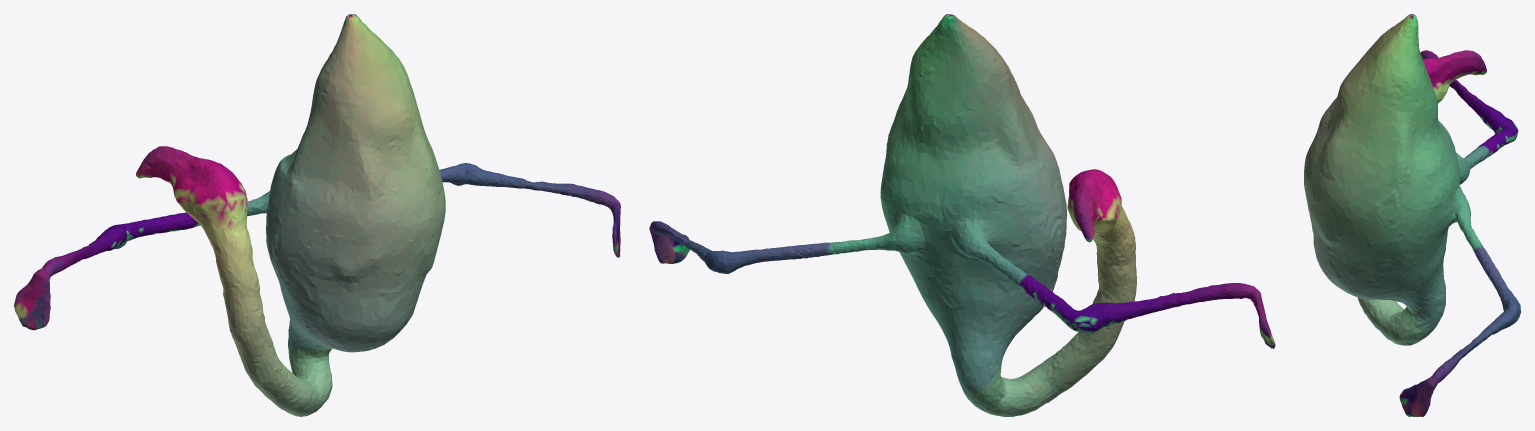
The model's file is flamingo-18.off.obj.
3 renders of one model, left to right at view 1: azimuth 30°, elevation 25°; view 2: azimuth 150°, elevation 25°; view 3: azimuth 270°, elevation 25°, orthographic. The views are drawn at different scales.
Size of the model in its own units: 1.66 by 1 by 0.5615.
